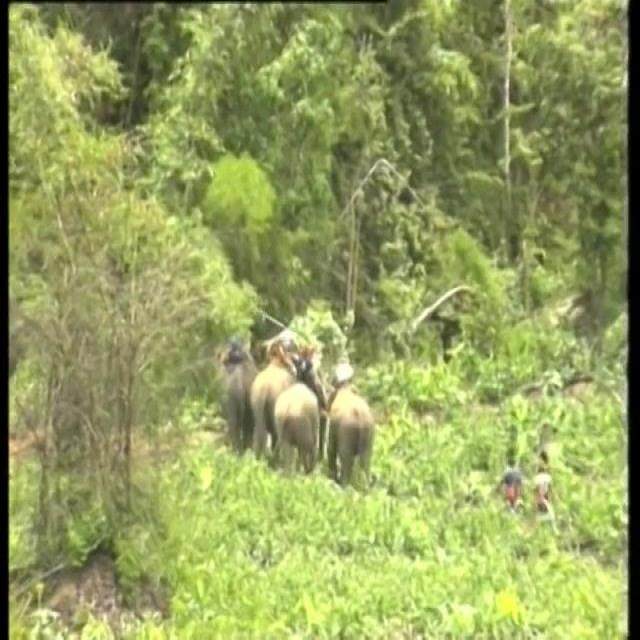Elephant: (330, 391, 376, 472), (271, 391, 320, 458), (248, 371, 299, 434), (216, 364, 257, 433)
